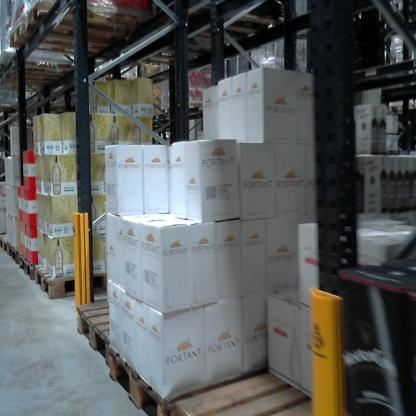pallet: (103, 332, 282, 416), (167, 358, 344, 413), (71, 287, 160, 393), (131, 37, 265, 84), (23, 1, 148, 47), (162, 3, 281, 43), (33, 259, 122, 310), (7, 17, 116, 58), (1, 53, 77, 92), (160, 101, 208, 116), (382, 100, 413, 116), (21, 254, 38, 283), (8, 240, 20, 267), (0, 233, 13, 254)
